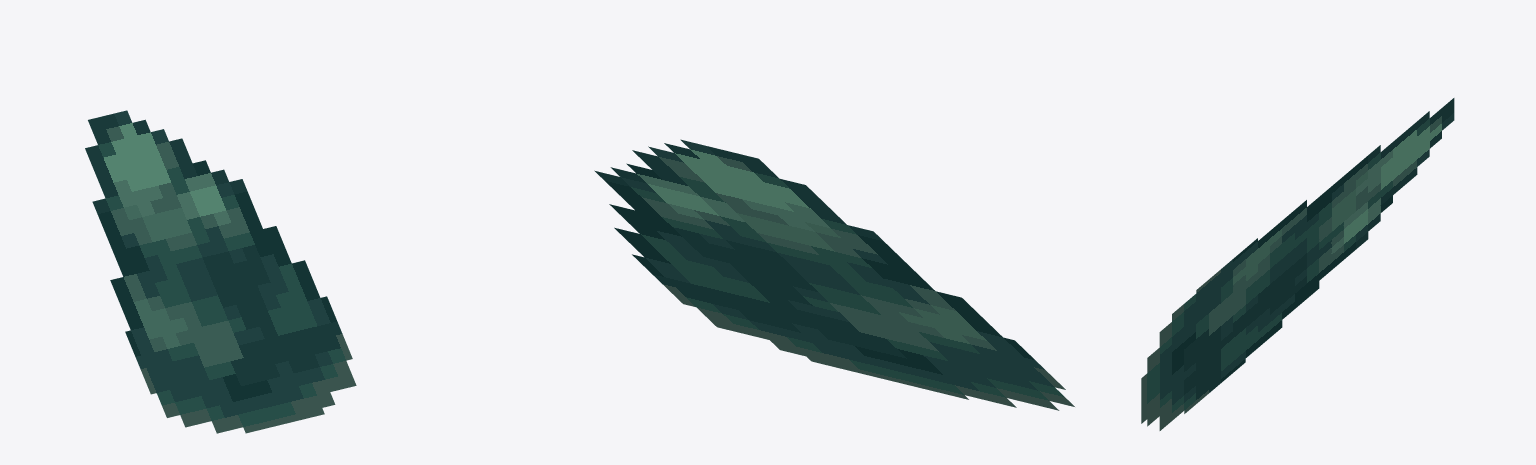
The picture shows the model from 3 angles, left to right: view 1: azimuth 30°, elevation 25°; view 2: azimuth 150°, elevation 25°; view 3: azimuth 270°, elevation 25°; orthographic projection. The views are drawn at different scales.
Size of the model in its own units: 1 by 1.32 by 1.41.
Materials: 1 (1 with a texture image).
